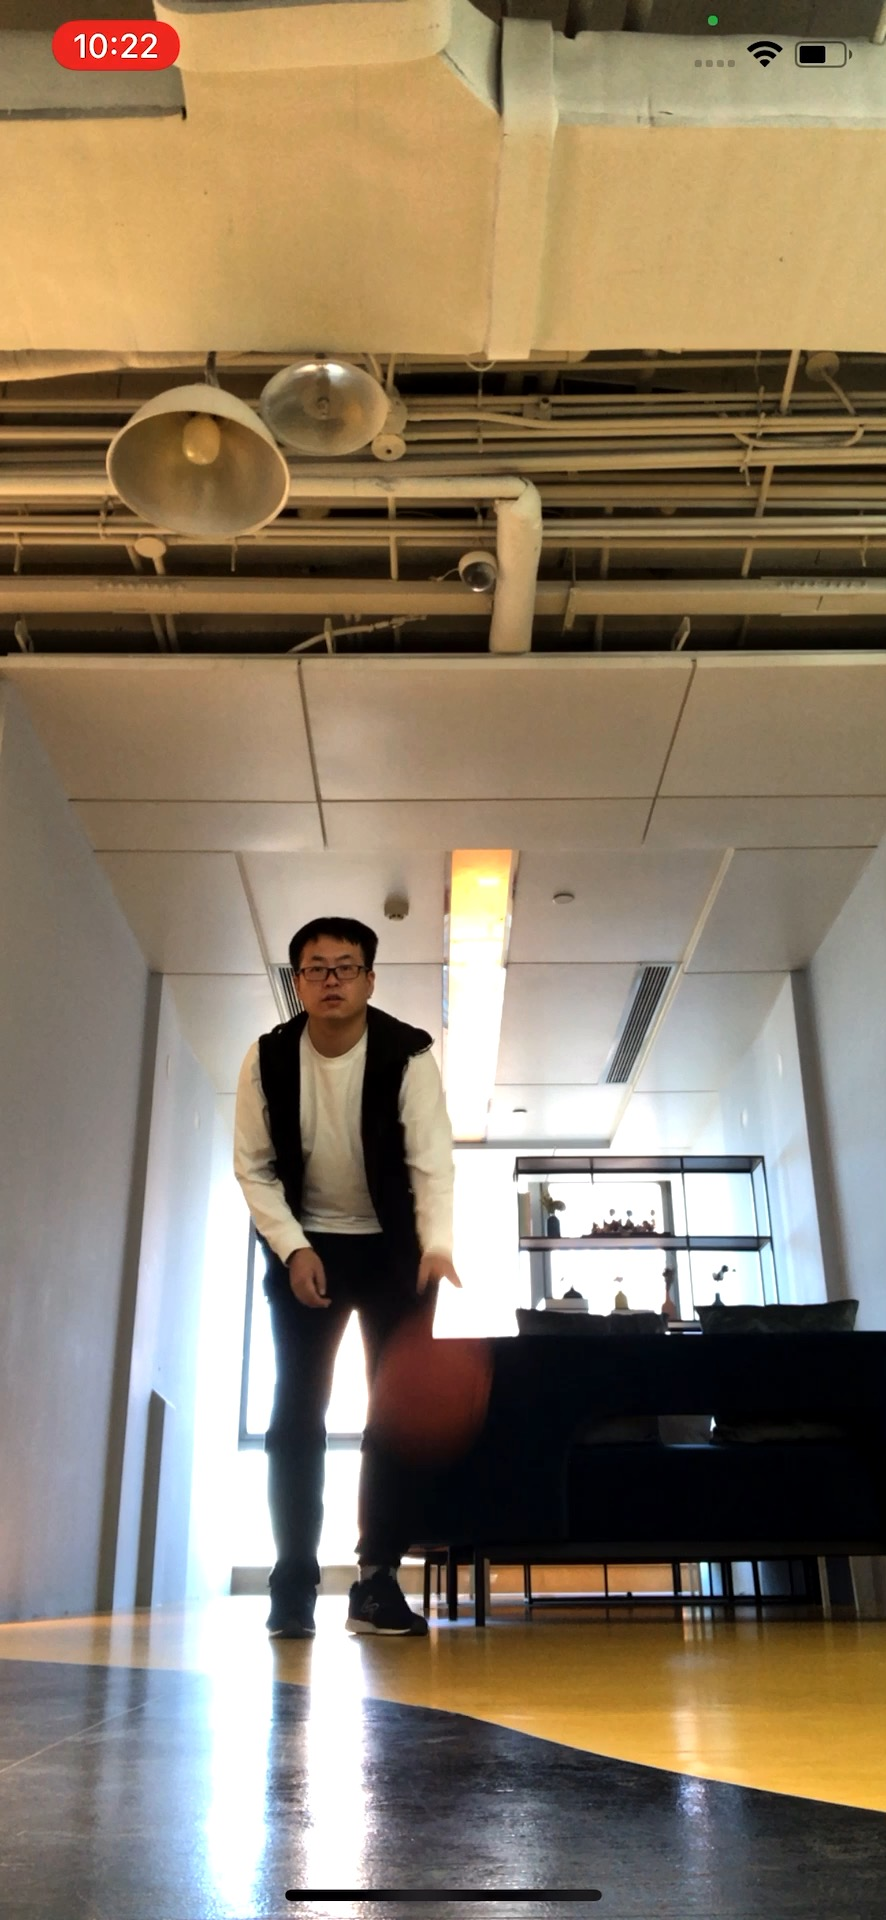ball: (374, 1335, 494, 1439)
